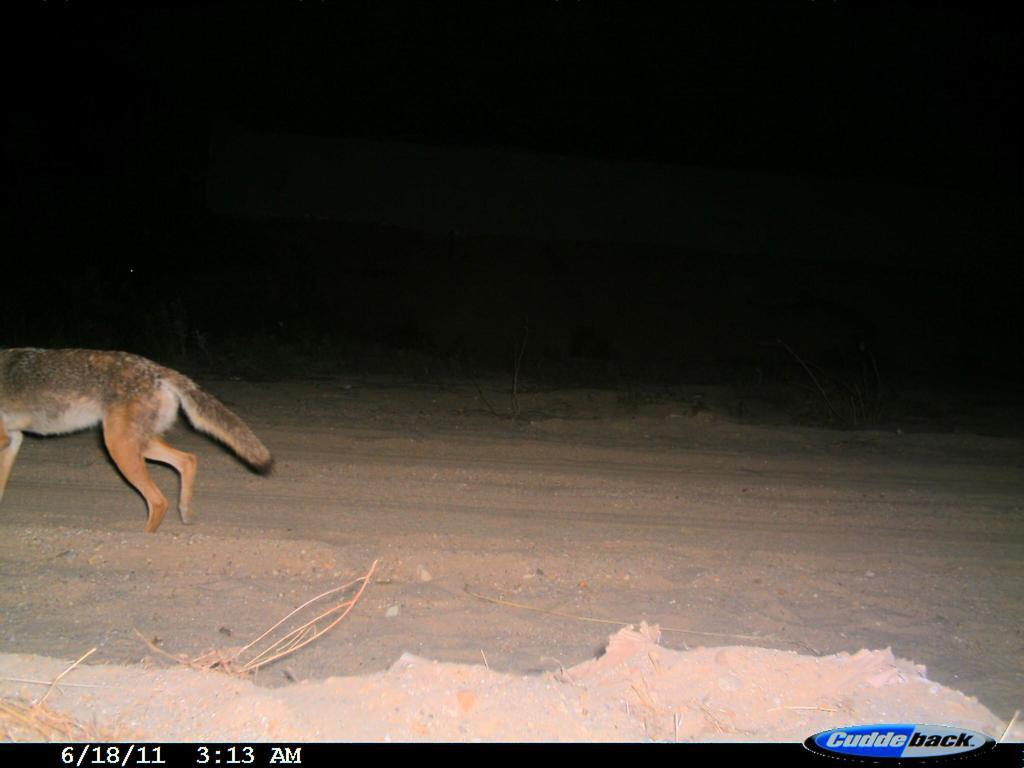coyote: (2, 336, 285, 548)
